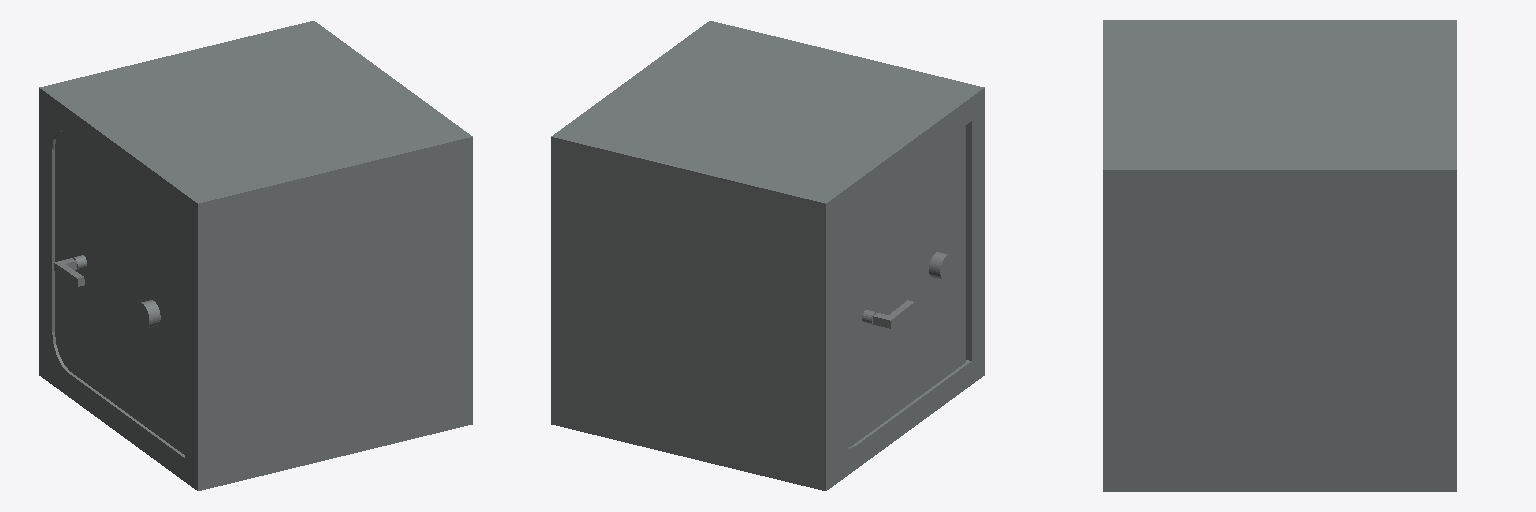
The robot description file, URDF, robot "door":
<?xml version="1.0" encoding="utf-8"?>
<!-- This URDF was automatically created by SolidWorks to URDF Exporter! Originally created by Stephen Brawner (brawner@gmail.com) 
     Commit Version: 1.6.0-4-g7f85cfe  Build Version: 1.6.7995.38578
     For more information, please see http://wiki.ros.org/sw_urdf_exporter -->
<robot
  name="door">
  <link
    name="base_link">
    <inertial>
      <origin
        xyz="0.6833 0.60024 0.6"
        rpy="0 0 0" />
      <mass
        value="3187" />
      <inertia
        ixx="1247.8"
        ixy="0.52279"
        ixz="-3.2185E-13"
        iyy="1112.6"
        iyz="1.0667E-13"
        izz="1112.8" />
    </inertial>
    <visual>
      <origin
        xyz="0 0 0"
        rpy="0 0 0" />
      <geometry>
        <mesh
          filename="package://door/meshes/base_link.STL" />
      </geometry>
      <material
        name="C-steel">
        <color
          rgba="0.52941 0.54902 0.54902 1" />
      </material>
    </visual>
    <collision>
      <origin
        xyz="0 0 0"
        rpy="0 0 0" />
      <geometry>
        <mesh
          filename="package://door/meshes/door_base/part_4.glb" />
      </geometry>
    </collision>
    <collision>
      <origin
        xyz="0 0 0"
        rpy="0 0 0" />
      <geometry>
        <mesh
          filename="package://door/meshes/door_base/part_6.glb" />
      </geometry>
    </collision>
    <collision>
      <origin
        xyz="0 0 0"
        rpy="0 0 0" />
      <geometry>
        <mesh
          filename="package://door/meshes/door_base/part_7.glb" />
      </geometry>
    </collision>
    <collision>
      <origin
        xyz="0 0 0"
        rpy="0 0 0" />
      <geometry>
        <mesh
          filename="package://door/meshes/door_base/part_10.glb" />
      </geometry>
    </collision>
  </link>

  <link
    name="door_Link">
    <inertial>
    <origin
      xyz="9.04E-06 0.50224 0.5"
      rpy="0 0 0" />
    <mass
        value="458.1" />
      <inertia
        ixx="75.458"
        ixy="-0.0011503"
        ixz="-5.6168E-16"
        iyy="38.234"
        iyz="-6.4251E-16"
        izz="37.497" />
    </inertial>
    <visual>
      <origin
        xyz="0 0 0"
        rpy="0 0 0" />
      <geometry>
        <mesh
          filename="package://door/meshes/door_Link.STL" />
      </geometry>
      <material
        name="">
        <color
          rgba="0.52941 0.54902 0.54902 1" />
      </material>
    </visual>
    <collision>
      <origin
        xyz="0 0 0"
        rpy="0 0 0" />
      <geometry>
        <mesh
          filename="package://door/meshes/door/part_0.glb" />
      </geometry>
    </collision>
    <collision>
      <origin
        xyz="0 0 0"
        rpy="0 0 0" />
      <geometry>
        <mesh
          filename="package://door/meshes/door/part_1.glb" />
      </geometry>
    </collision>
    <collision>
      <origin
        xyz="0 0 0"
        rpy="0 0 0" />
      <geometry>
        <mesh
          filename="package://door/meshes/door/part_2.glb" />
      </geometry>
    </collision>
    <collision>
      <origin
        xyz="0 0 0"
        rpy="0 0 0" />
      <geometry>
        <mesh
          filename="package://door/meshes/door/part_3.glb" />
      </geometry>
    </collision>
    <collision>
      <origin
        xyz="0 0 0"
        rpy="0 0 0" />
      <geometry>
        <mesh
          filename="package://door/meshes/door/part_4.glb" />
      </geometry>
    </collision>
    <collision>
      <origin
        xyz="0 0 0"
        rpy="0 0 0" />
      <geometry>
        <mesh
          filename="package://door/meshes/door/part_5.glb" />
      </geometry>
    </collision>
  </link>
  <joint
    name="joint_door"
    type="revolute">
    <origin
      xyz="0.041667 0.10196 0.1"
      rpy="0 0 0.0" />
    <parent
      link="base_link" />
    <child
      link="door_Link" />
    <axis
      xyz="0 0 1" />
    <limit
      lower="0"
      upper="1.57"
      effort="0"
      velocity="0" />
  </joint>
  
  <link
    name="bar_Link">
    <inertial>
    <origin
      xyz="-0.082609 -0.039327 3.4694E-18"
      rpy="0 0 0" />
    <mass
        value="2.7177" />
      <inertia
        ixx="0.0080132"
        ixy="-0.0034619"
        ixz="3.6809E-19"
        iyy="0.0048043"
        iyz="8.4026E-19"
        izz="0.01218" />
    </inertial>
    <visual>
      <origin
        xyz="0 0 0"
        rpy="0 0 0" />
      <geometry>
        <mesh
          filename="package://door/meshes/bar_Link.STL" />
      </geometry>
      <material
        name="">
        <color
          rgba="0.52941 0.54902 0.54902 1" />
      </material>
    </visual>
    <collision>
      <origin
        xyz="0 0 0"
        rpy="0 0 0" />
      <geometry>
        <mesh
          filename="package://door/meshes/bar/part_0.glb" />
      </geometry>
    </collision>
    <collision>
      <origin
        xyz="0 0 0"
        rpy="0 0 0" />
      <geometry>
        <mesh
          filename="package://door/meshes/bar/part_1.glb" />
      </geometry>
    </collision>
    <collision>
      <origin
        xyz="0 0 0"
        rpy="0 0 0" />
      <geometry>
        <mesh
          filename="package://door/meshes/bar/part_2.glb" />
      </geometry>
    </collision>
  </link>
  <joint
    name="joint_bar"
    type="revolute">
    <origin
      xyz="-0.021 0.78 0.5"
      rpy="-0.031087 0 0" />
    <parent
      link="door_Link" />
    <child
      link="bar_Link" />
    <axis
      xyz="-1 0 0" />
    <limit
      lower="-1.5"
      upper="0"
      effort="0"
      velocity="0" />
  </joint>
  <link
    name="button_Link">
    <inertial>
      <origin
        xyz="-0.04 0 -4.0558E-17"
        rpy="0 0 0" />
      <mass
        value="4.9009" />
      <inertia
        ixx="0.0061261"
        ixy="-1.4095E-18"
        ixz="8.7553E-19"
        iyy="0.0056769"
        iyz="2.744E-19"
        izz="0.0056769" />
    </inertial>
    <visual>
      <origin
        xyz="0 0 0"
        rpy="0 0 0" />
      <geometry>
        <mesh
          filename="package://door/meshes/button_Link.STL" />
      </geometry>
      <material
        name="">
        <color
          rgba="0.52941 0.54902 0.54902 1" />
      </material>
    </visual>
    <collision>
      <origin
        xyz="0 0 0"
        rpy="0 0 0" />
      <geometry>
        <mesh
          filename="package://door/meshes/button/part_0.glb" />
      </geometry>
    </collision>
  </link>
  <joint
    name="joint_button"
    type="prismatic">
    <origin
      xyz="0.00058718 0.25 0.5"
      rpy="0 0 0" />
    <parent
      link="door_Link" />
    <child
      link="button_Link" />
    <axis
      xyz="-1 0 0" />
    <limit
      lower="0"
      upper="0.045"
      effort="0"
      velocity="0" />
  </joint>
</robot>

--- What the picture shows (computed from the rendered views, not written in the file) ---
Views: 3 orthographic renders of the robot side by side, from view 1: azimuth 30°, elevation 25°; view 2: azimuth 150°, elevation 25°; view 3: azimuth 270°, elevation 25°.
Robot: door — 4 links, 3 joints (2 revolute, 1 prismatic); root link base_link; default pose: every joint at zero.
Links seen in each view (by area): view 1: base_link, door_Link, bar_Link, button_Link; view 2: base_link, door_Link, bar_Link, button_Link; view 3: base_link.
Link boxes in pixels (<box>): base_link: <box>39,21,472,490</box>; door_Link: <box>55,131,184,454</box>; bar_Link: <box>54,255,86,286</box>; button_Link: <box>136,300,160,328</box>; base_link: <box>551,21,984,490</box>; door_Link: <box>839,125,965,447</box>; bar_Link: <box>862,300,914,328</box>; button_Link: <box>929,252,953,280</box>; base_link: <box>1103,20,1456,491</box>.
Size in the robot's own frame: 1.31 by 1.2 by 1.2 metres.
4 mesh visuals loaded from 4 distinct referenced files (4 binary STL).
